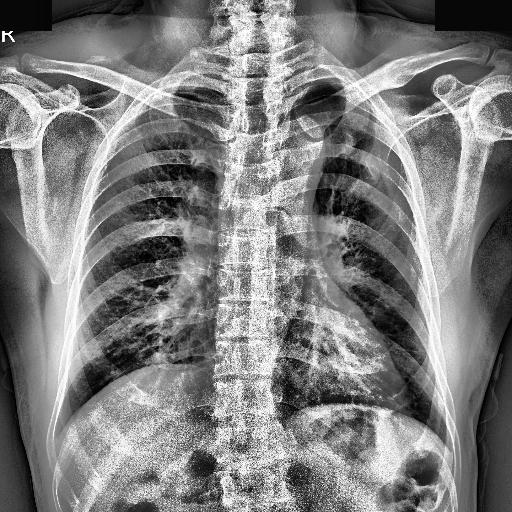0- Aortic enlargement: (263, 116, 324, 194), (271, 118, 328, 190), (264, 115, 324, 180)
11- Pleural thickening: (135, 76, 230, 114), (289, 64, 356, 91)
3- Cardiomegaly: (206, 320, 414, 414)
9- Other lesion: (384, 56, 422, 89)
